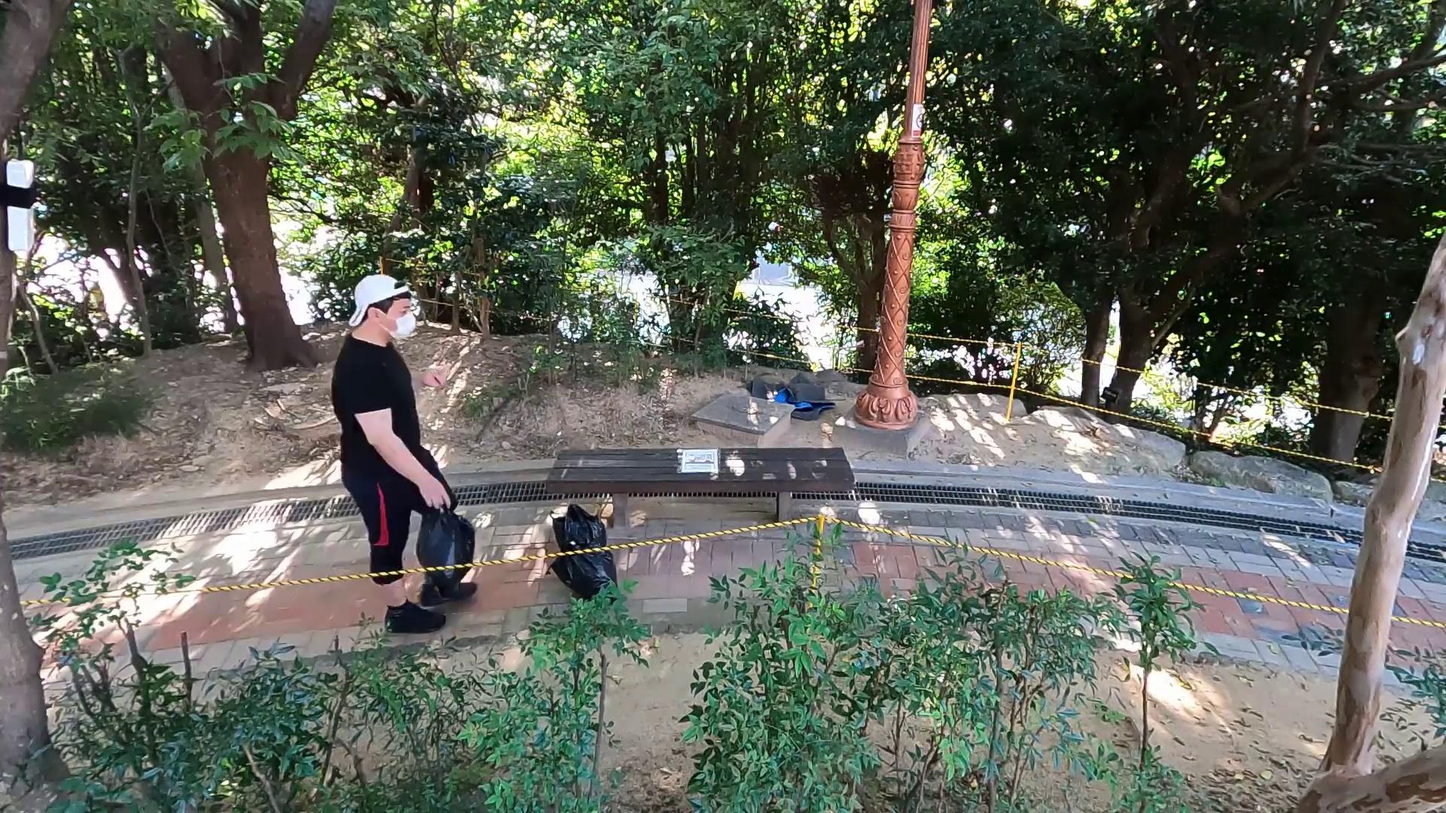person: (329, 270, 480, 635)
trash: (414, 495, 477, 585), (545, 541, 621, 607), (743, 372, 838, 422), (549, 503, 609, 567)
